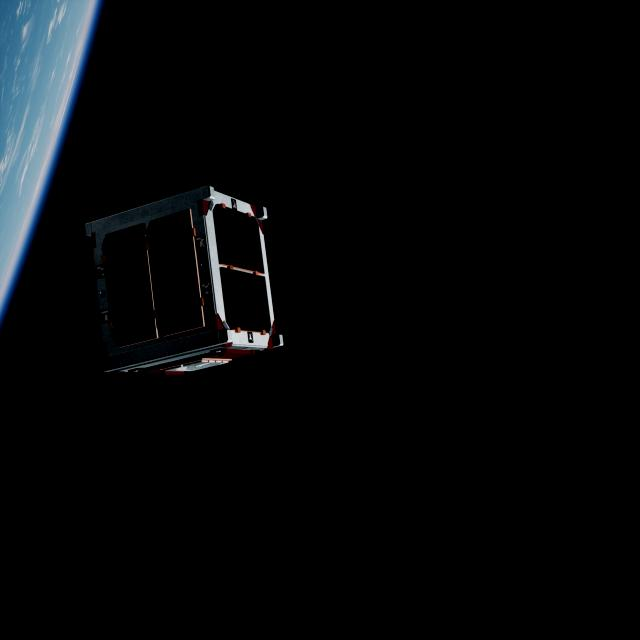medium_debris: (65, 178, 287, 392)
